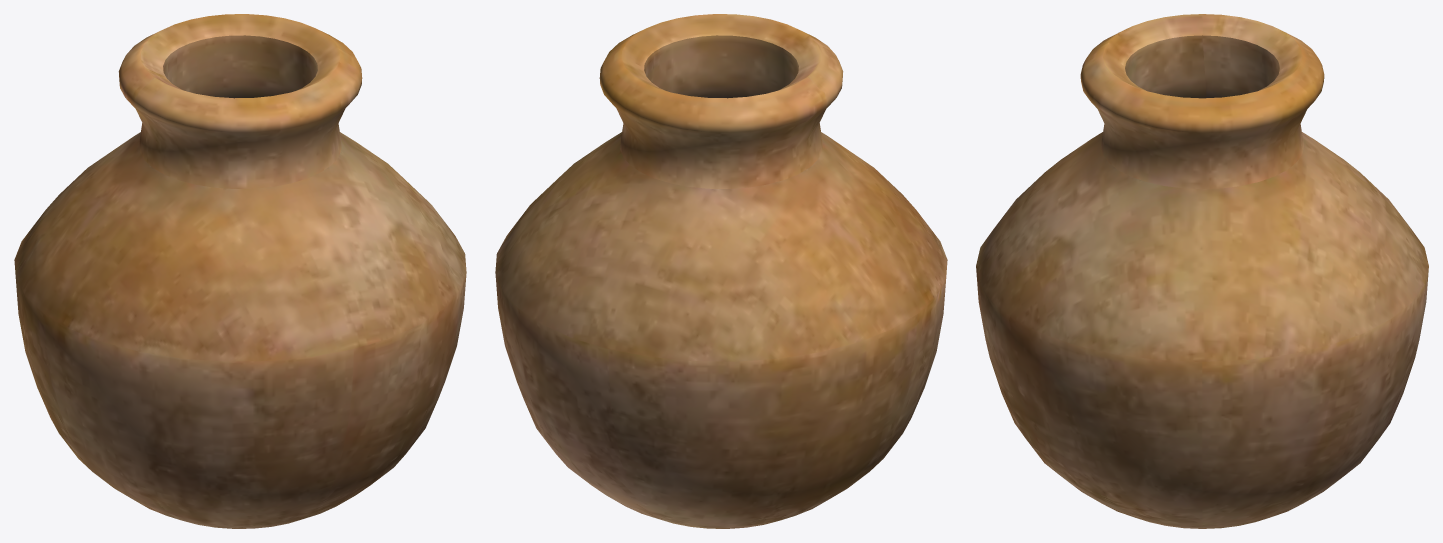
3 views of the same model, side by side, from view 1: azimuth 30°, elevation 25°; view 2: azimuth 150°, elevation 25°; view 3: azimuth 270°, elevation 25° (orthographic).
Parts seen in each view (by area): view 1: SM_Moon_Garou_Vase_01v1_LOD0; view 2: SM_Moon_Garou_Vase_01v1_LOD0; view 3: SM_Moon_Garou_Vase_01v1_LOD0.
Boxes of the visible parts, <box> form: SM_Moon_Garou_Vase_01v1_LOD0: <box>14,14,466,528</box>; SM_Moon_Garou_Vase_01v1_LOD0: <box>495,14,947,528</box>; SM_Moon_Garou_Vase_01v1_LOD0: <box>976,14,1428,528</box>.
Size of the model in its own units: 0.6641 by 0.7109 by 0.6641.
1 material, 1 textured.
